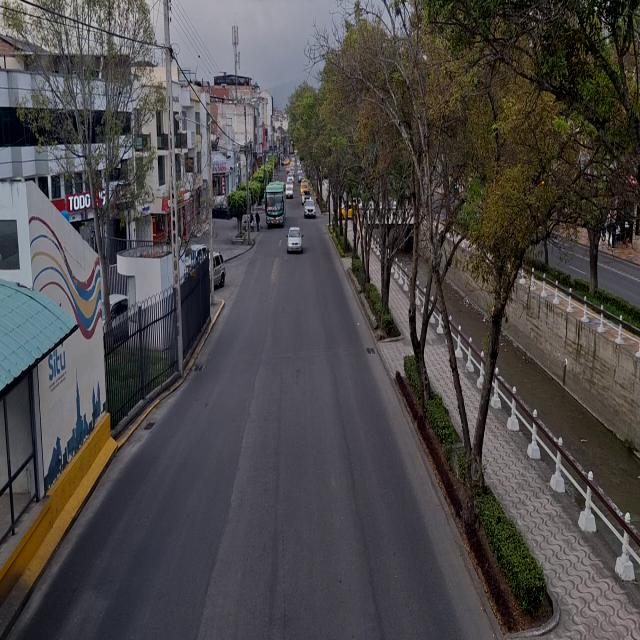BUS: (267, 186, 285, 227)
SUV: (304, 200, 315, 218)
